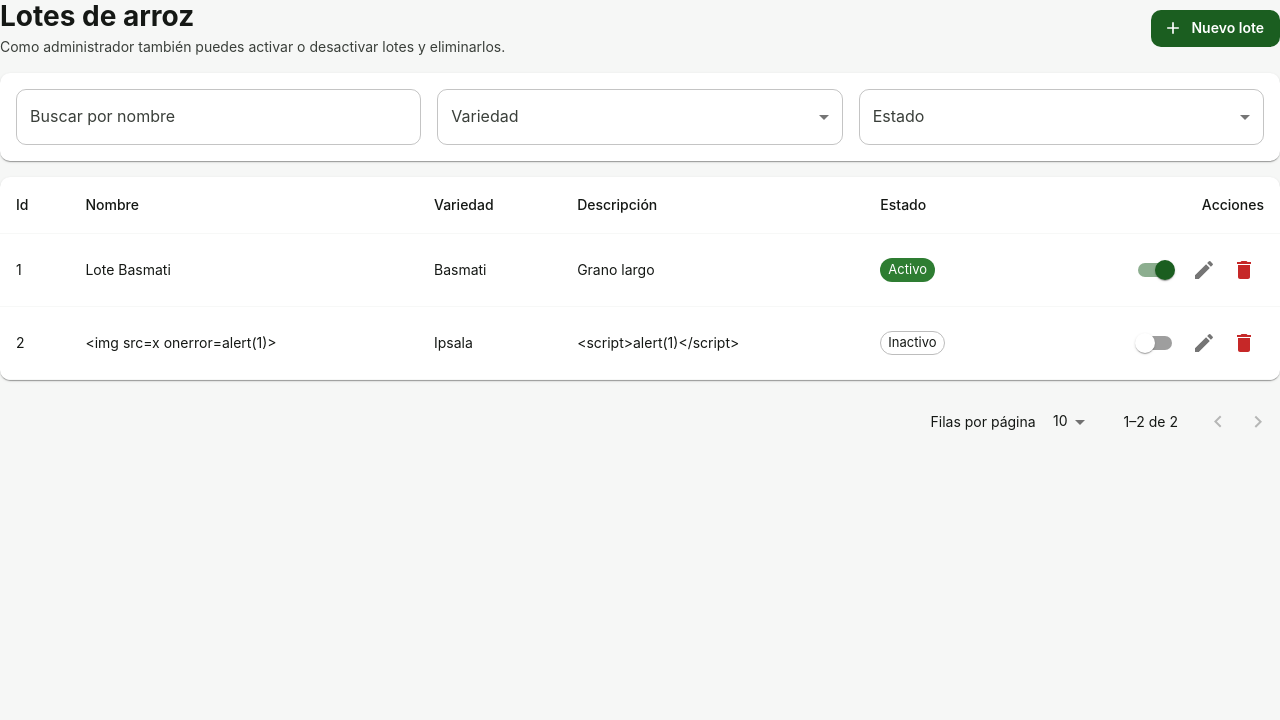
it: PaginaProductos › CA-05.3 el ADMIN debe confirmar antes de eliminar
Click the button with test id "eliminar-1". click: (1244, 270)
box: [1224,250,1264,290]
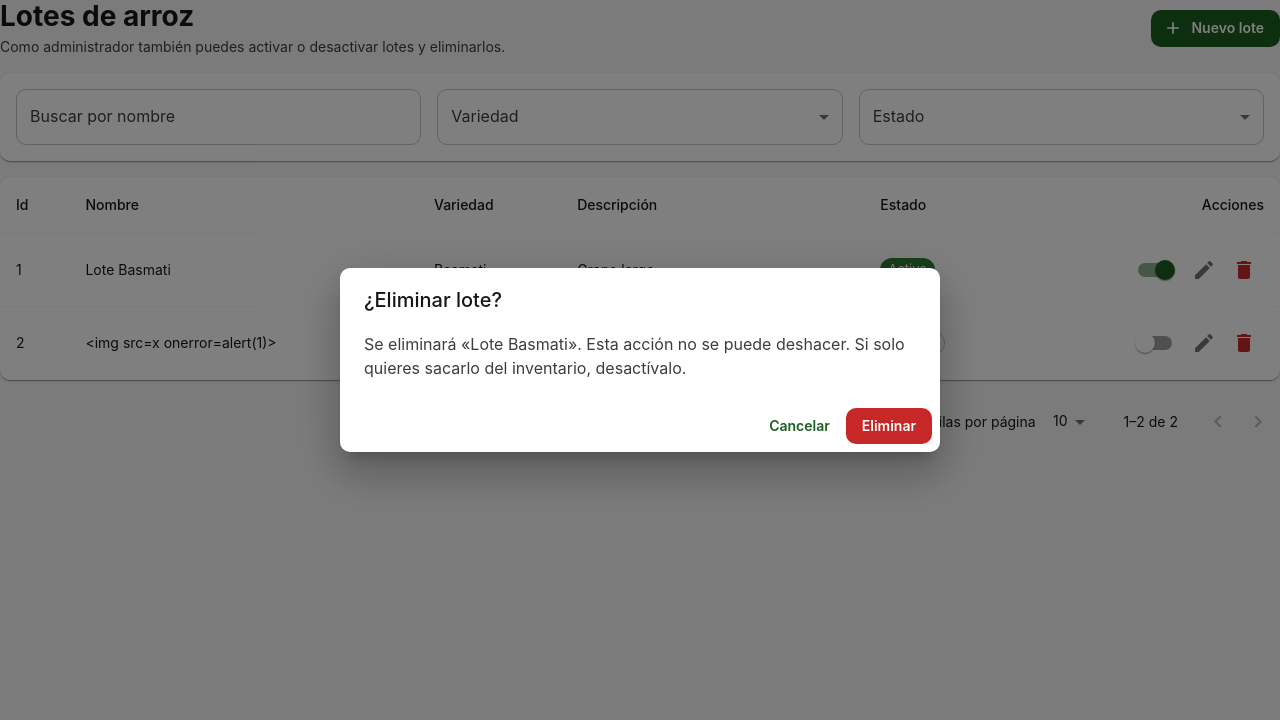
expect the text "Se eliminará «Lote Basmati»" is shown: met, box [364,334,905,378]
Click the button with test id "confirmar-eliminar". click: (889, 426)
box: [846,408,932,444]
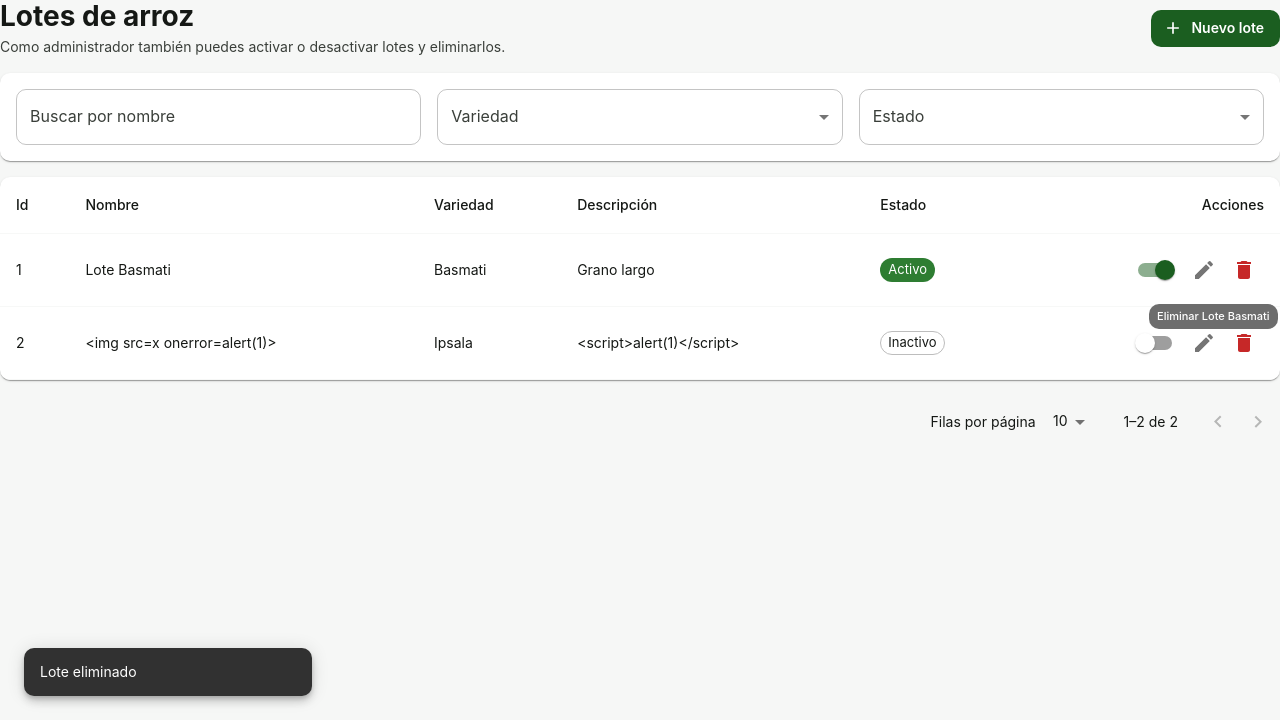
expect the text "Lote eliminado" is shown: met, box [40,663,137,680]
